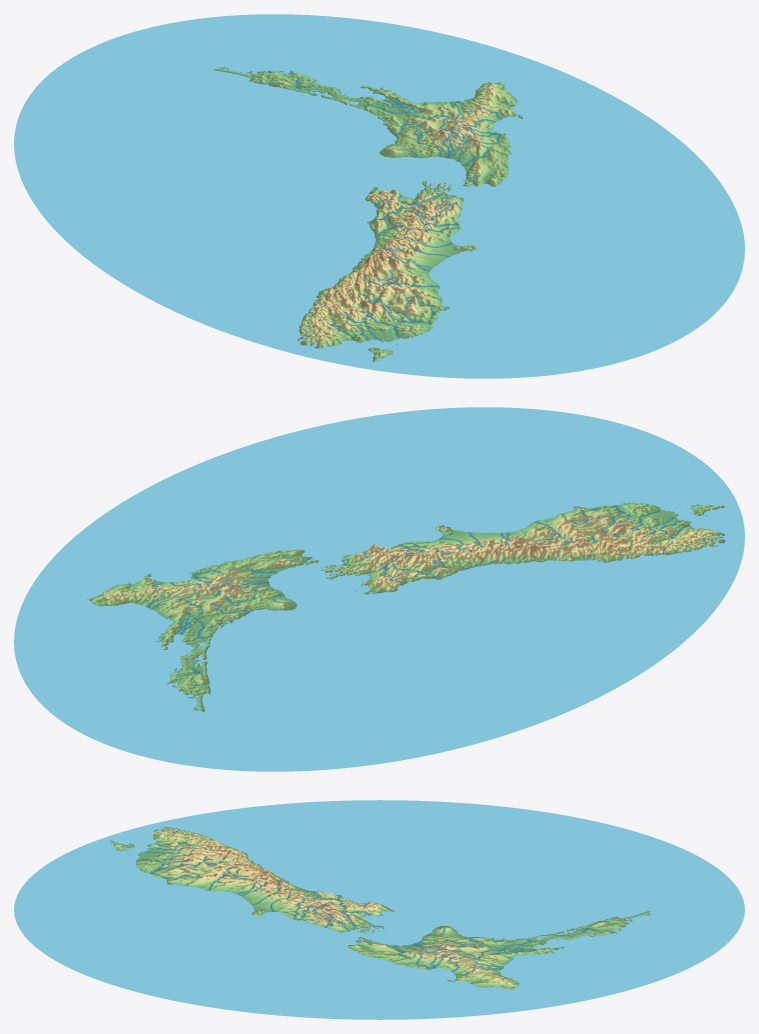
The model's file is NZL-terrain.glb.
3 views of the same model, one above another, from view 1: azimuth 30°, elevation 25°; view 2: azimuth 150°, elevation 25°; view 3: azimuth 270°, elevation 25° (orthographic). The views are drawn at different scales.
Parts seen in each view (by area): view 1: Relevo com hidrografia; view 2: Relevo com hidrografia; view 3: Relevo com hidrografia.
Boxes of the visible parts, bbox=[...] form: Relevo com hidrografia: bbox=[14, 14, 744, 378]; Relevo com hidrografia: bbox=[14, 407, 744, 771]; Relevo com hidrografia: bbox=[14, 800, 744, 1019].
Size of the model in its own units: 1.54 by 0.0312 by 2.17.
Materials: 2 (1 with a texture image).
